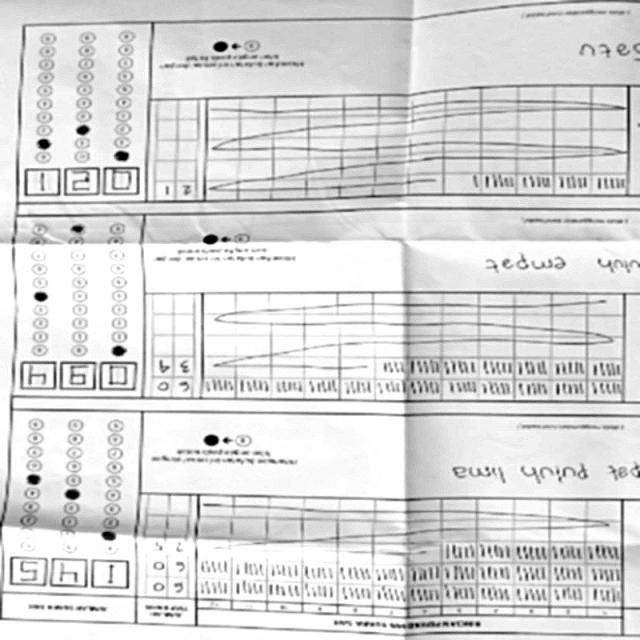Suara: (13, 358, 142, 396), (19, 166, 148, 204), (5, 556, 134, 593)
